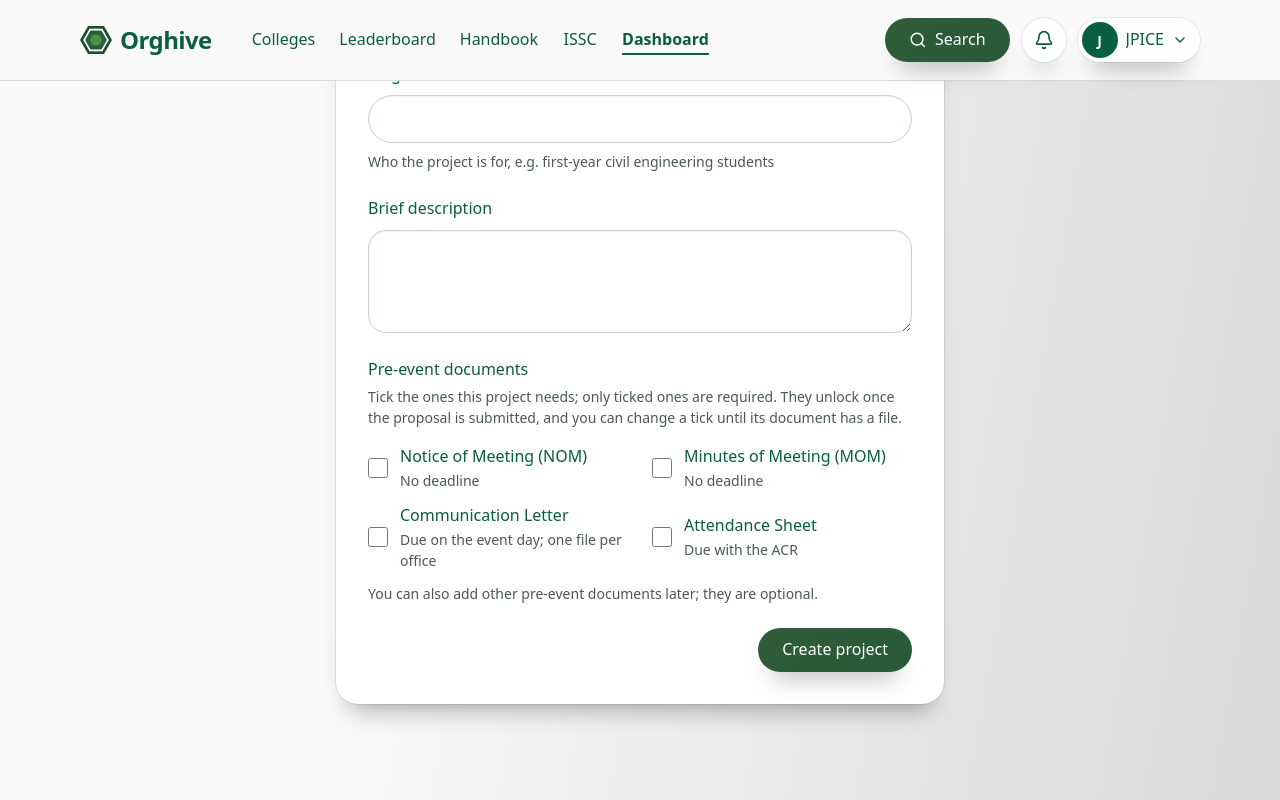
it: /dashboard/projects/new › requires the five fields and refuses a past target date
(page scrolled)
Click the button "Create project" at (835, 650), box [758,628,912,672]
(page scrolled)
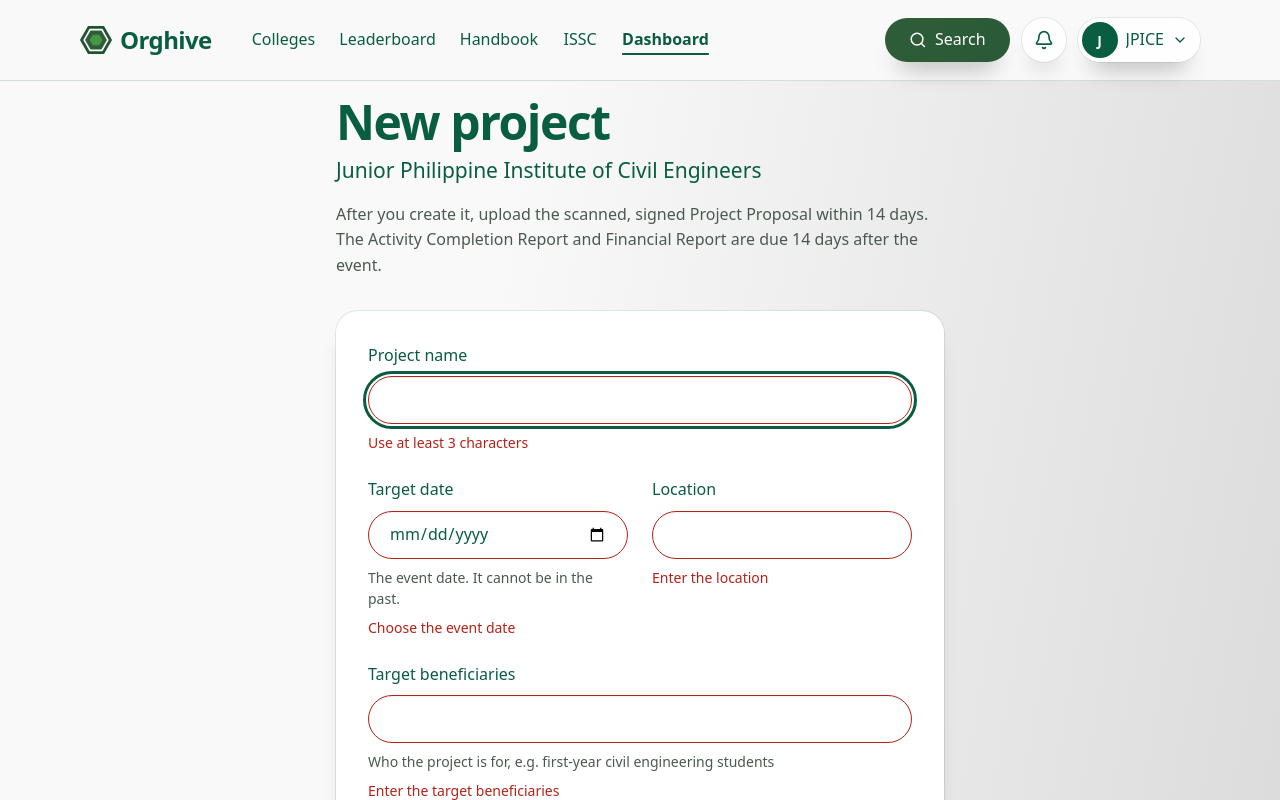
Now the text "Use at least 3 characters" is shown, box [368,433,528,452]
Now the text "Choose the event date" is shown, box [368,618,515,637]
Now the text "Enter the location" is shown, box [652,568,768,587]
Type "2026-10-30" into the date field labelled "Target date" at (498, 535), box [368,511,628,559]
(page scrolled)
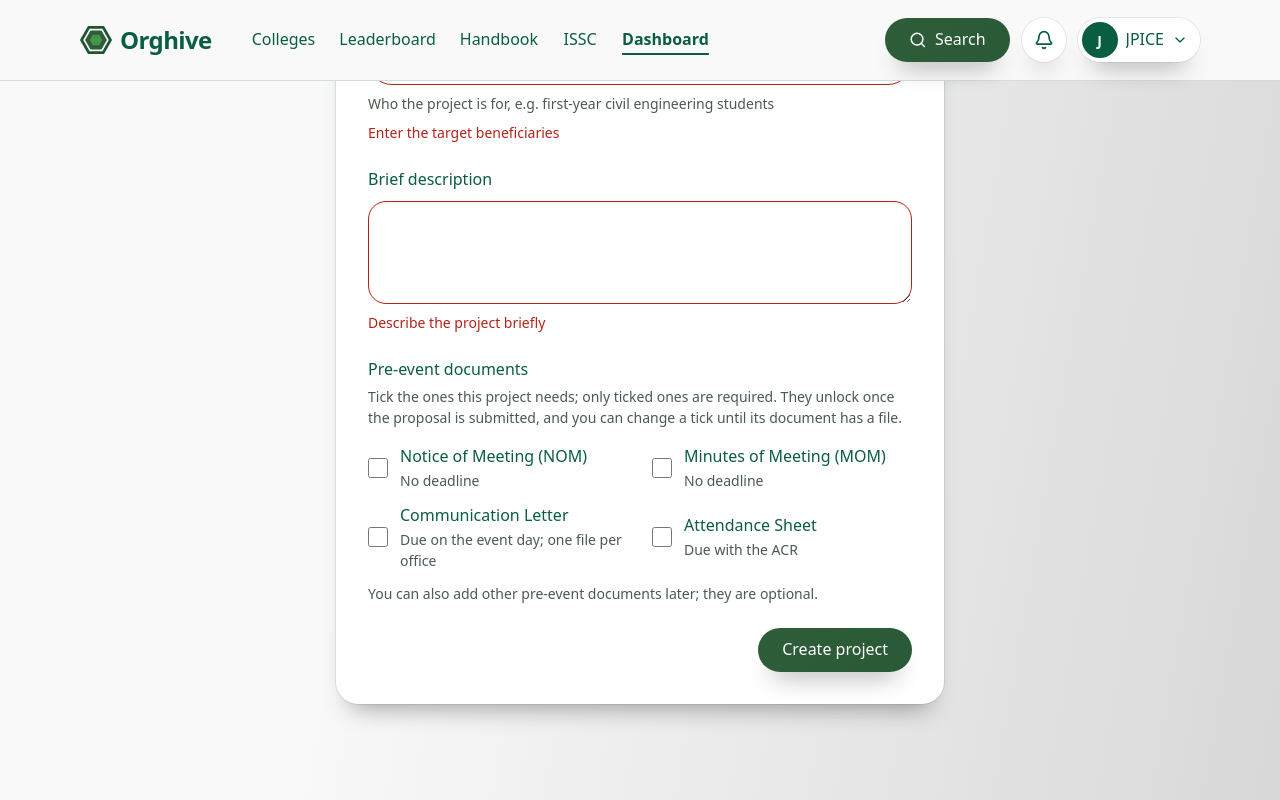
Click the button "Create project" at (835, 650), box [758,628,912,672]
(page scrolled)
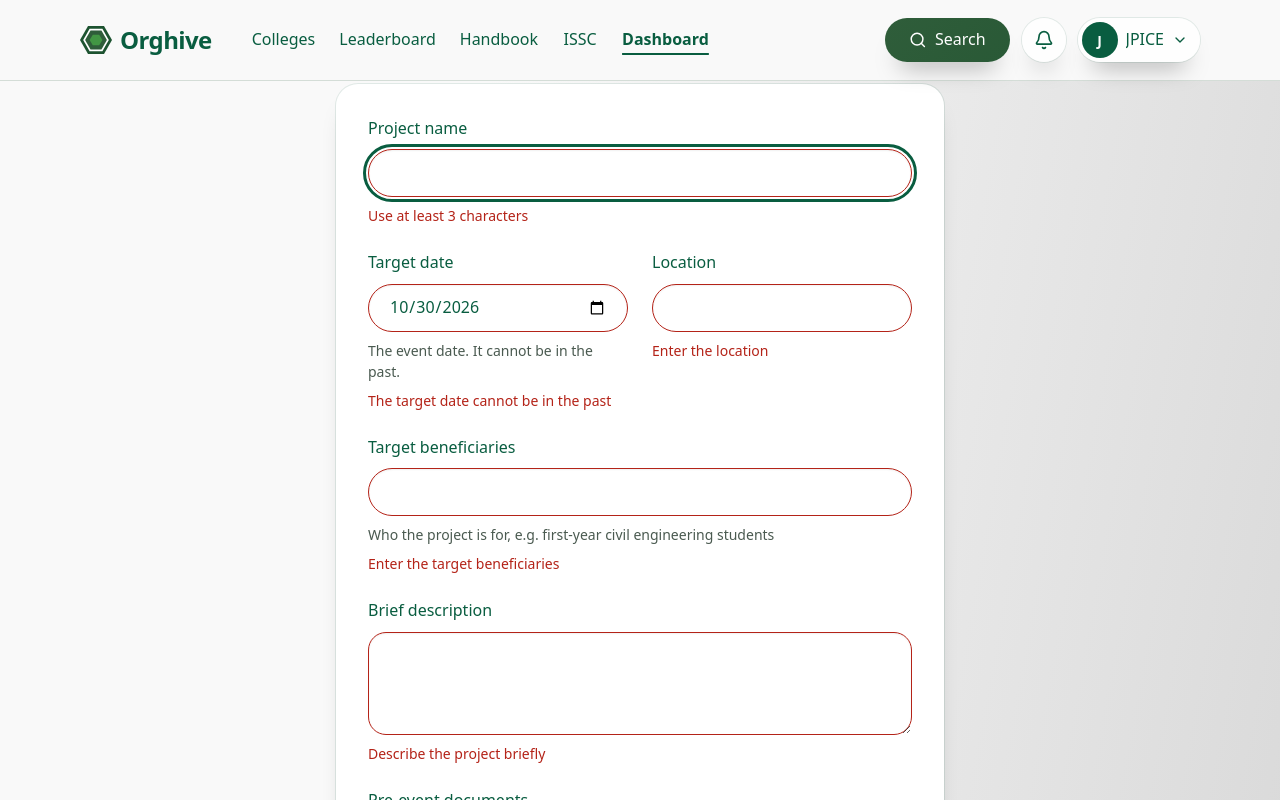
Now the text "The target date cannot be in the past" is shown, box [368,390,628,411]
